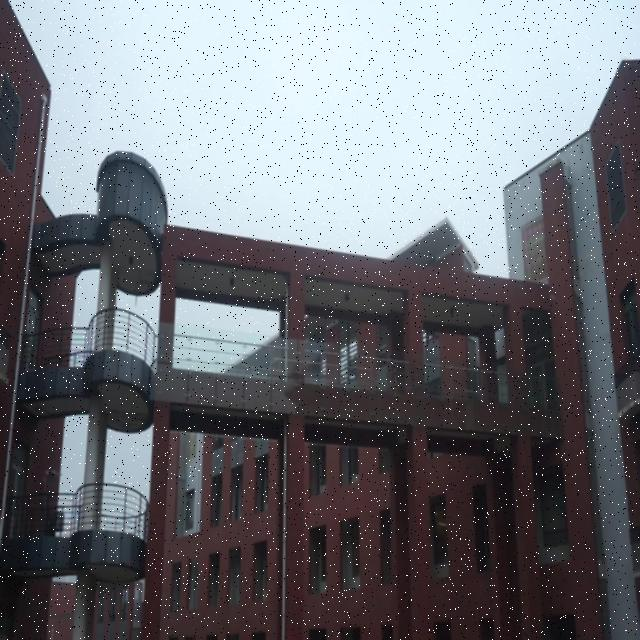UAV: (44, 469, 62, 480)
